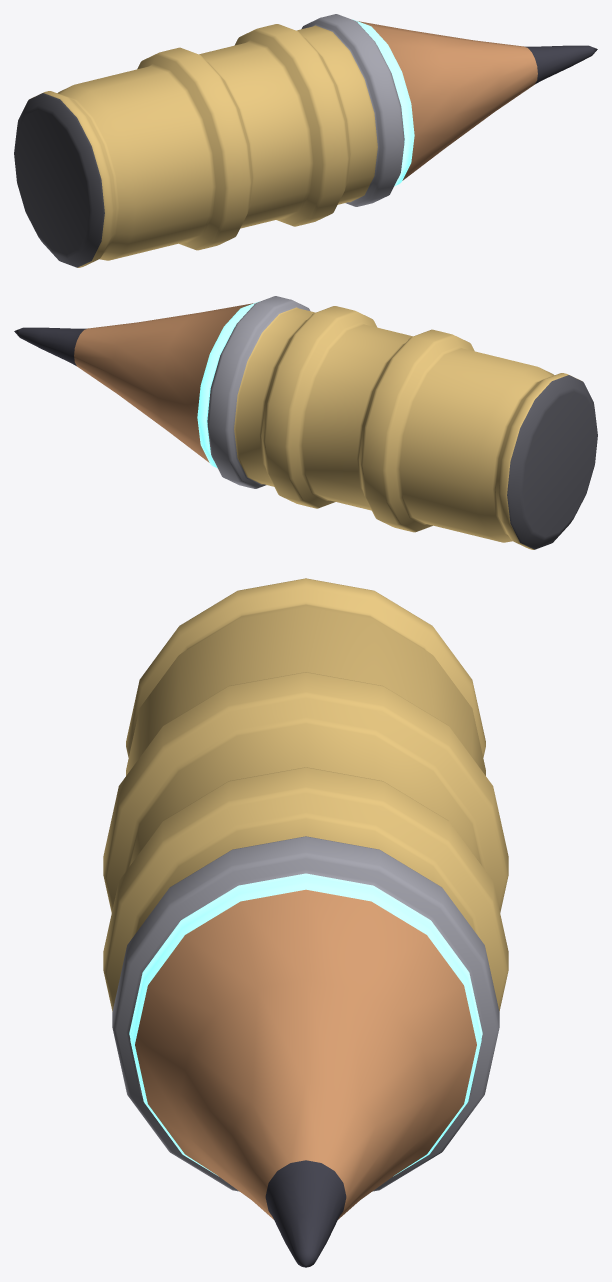
The model's file is Bullet_Heavy.glb.
3 views of the same model, one above another, from view 1: azimuth 30°, elevation 25°; view 2: azimuth 150°, elevation 25°; view 3: azimuth 270°, elevation 25° (orthographic). The views are drawn at different scales.
Visible parts, largest first — view 1: Bullet_Heavy; view 2: Bullet_Heavy; view 3: Bullet_Heavy.
Boxes of the visible parts, x1,y1,x2,y2 form: Bullet_Heavy: [14, 14, 597, 267]; Bullet_Heavy: [14, 296, 597, 549]; Bullet_Heavy: [103, 578, 508, 1267].
Bounding box in the file's own units: 1.4 × 0.45 × 0.45.
